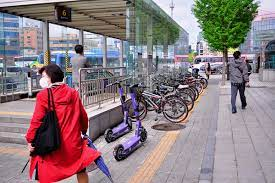guide_blocks: (152, 121, 185, 160), (129, 158, 162, 183), (1, 147, 28, 156), (3, 111, 34, 117)
kick_handler: (105, 78, 127, 88), (124, 83, 146, 90)
kick_neck: (130, 93, 142, 124), (119, 89, 128, 119)
kick_wheel: (112, 144, 123, 159), (103, 130, 112, 141), (139, 129, 147, 141)
